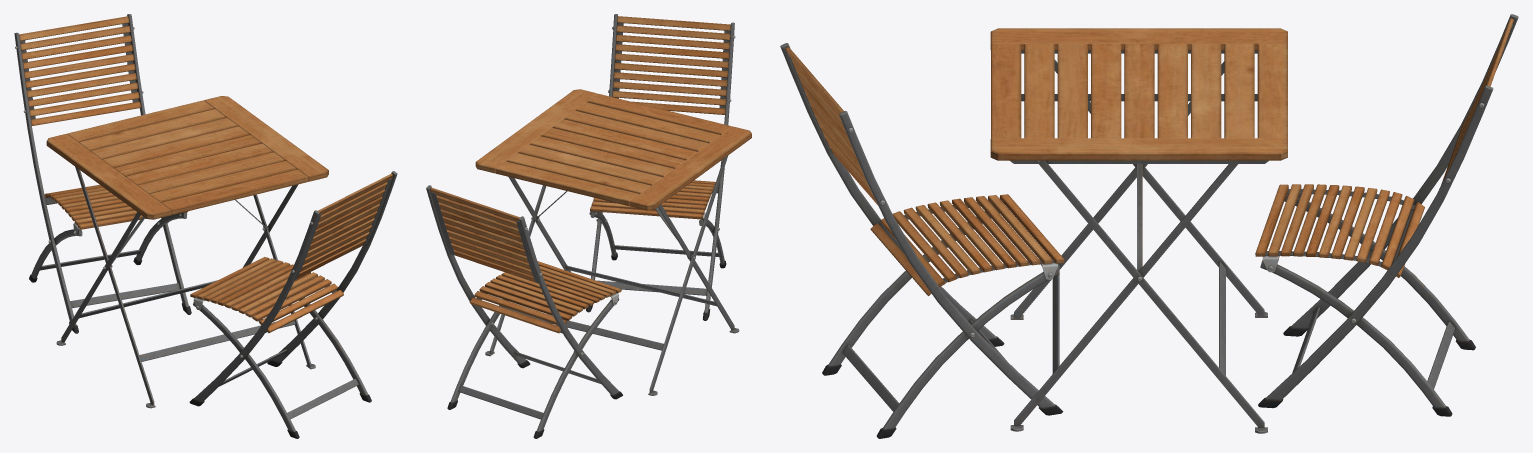
The model's file is outdoor_table_chair_set_01.glb.
3 views of the same model, side by side, from view 1: azimuth 30°, elevation 25°; view 2: azimuth 150°, elevation 25°; view 3: azimuth 270°, elevation 25° (orthographic). The views are drawn at different scales.
Parts seen in each view (by area): view 1: outdoor_table_chair_set_01_table, outdoor_table_chair_set_01_chair_02, outdoor_table_chair_set_01_chair_01; view 2: outdoor_table_chair_set_01_table, outdoor_table_chair_set_01_chair_02, outdoor_table_chair_set_01_chair_01; view 3: outdoor_table_chair_set_01_table, outdoor_table_chair_set_01_chair_01, outdoor_table_chair_set_01_chair_02.
Part boxes in pixels (x1=…): outdoor_table_chair_set_01_table: x1=46, y1=96, x2=328, y2=408; outdoor_table_chair_set_01_chair_02: x1=14, y1=14, x2=191, y2=333; outdoor_table_chair_set_01_chair_01: x1=189, y1=171, x2=397, y2=438; outdoor_table_chair_set_01_table: x1=475, y1=89, x2=751, y2=395; outdoor_table_chair_set_01_chair_02: x1=426, y1=185, x2=622, y2=438; outdoor_table_chair_set_01_chair_01: x1=586, y1=14, x2=735, y2=320; outdoor_table_chair_set_01_table: x1=990, y1=28, x2=1287, y2=433; outdoor_table_chair_set_01_chair_01: x1=780, y1=43, x2=1064, y2=438; outdoor_table_chair_set_01_chair_02: x1=1255, y1=14, x2=1518, y2=416.
Size of the model in its own units: 0.7417 by 0.8586 by 1.72.
2 materials, 2 textured.
